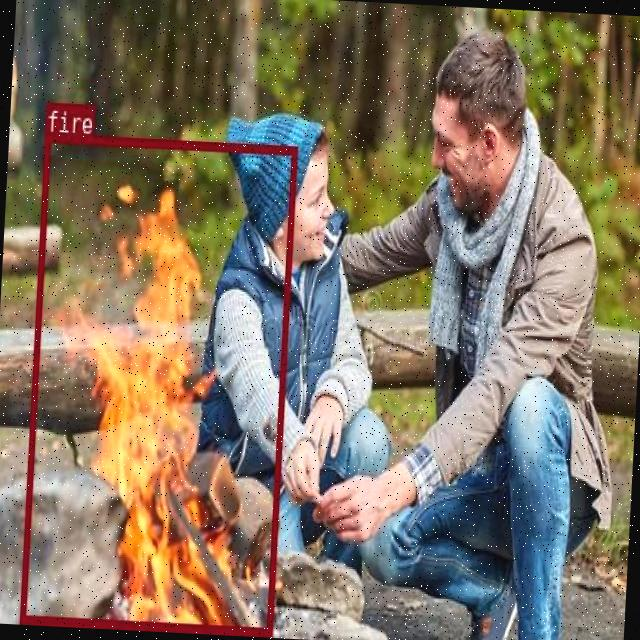fire: (19, 132, 296, 634)
